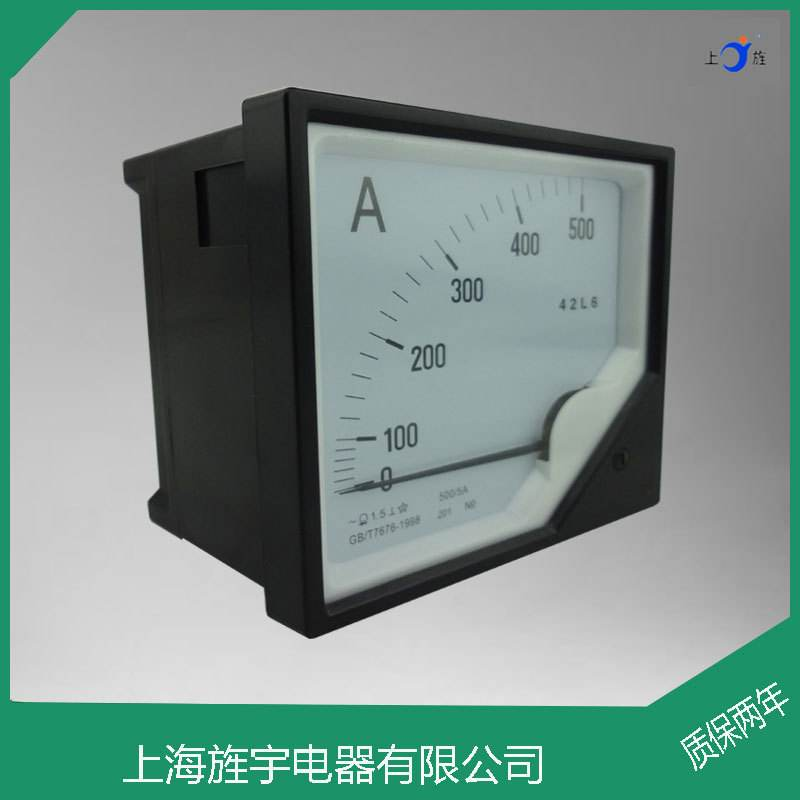pointer: (303, 115, 654, 606)
